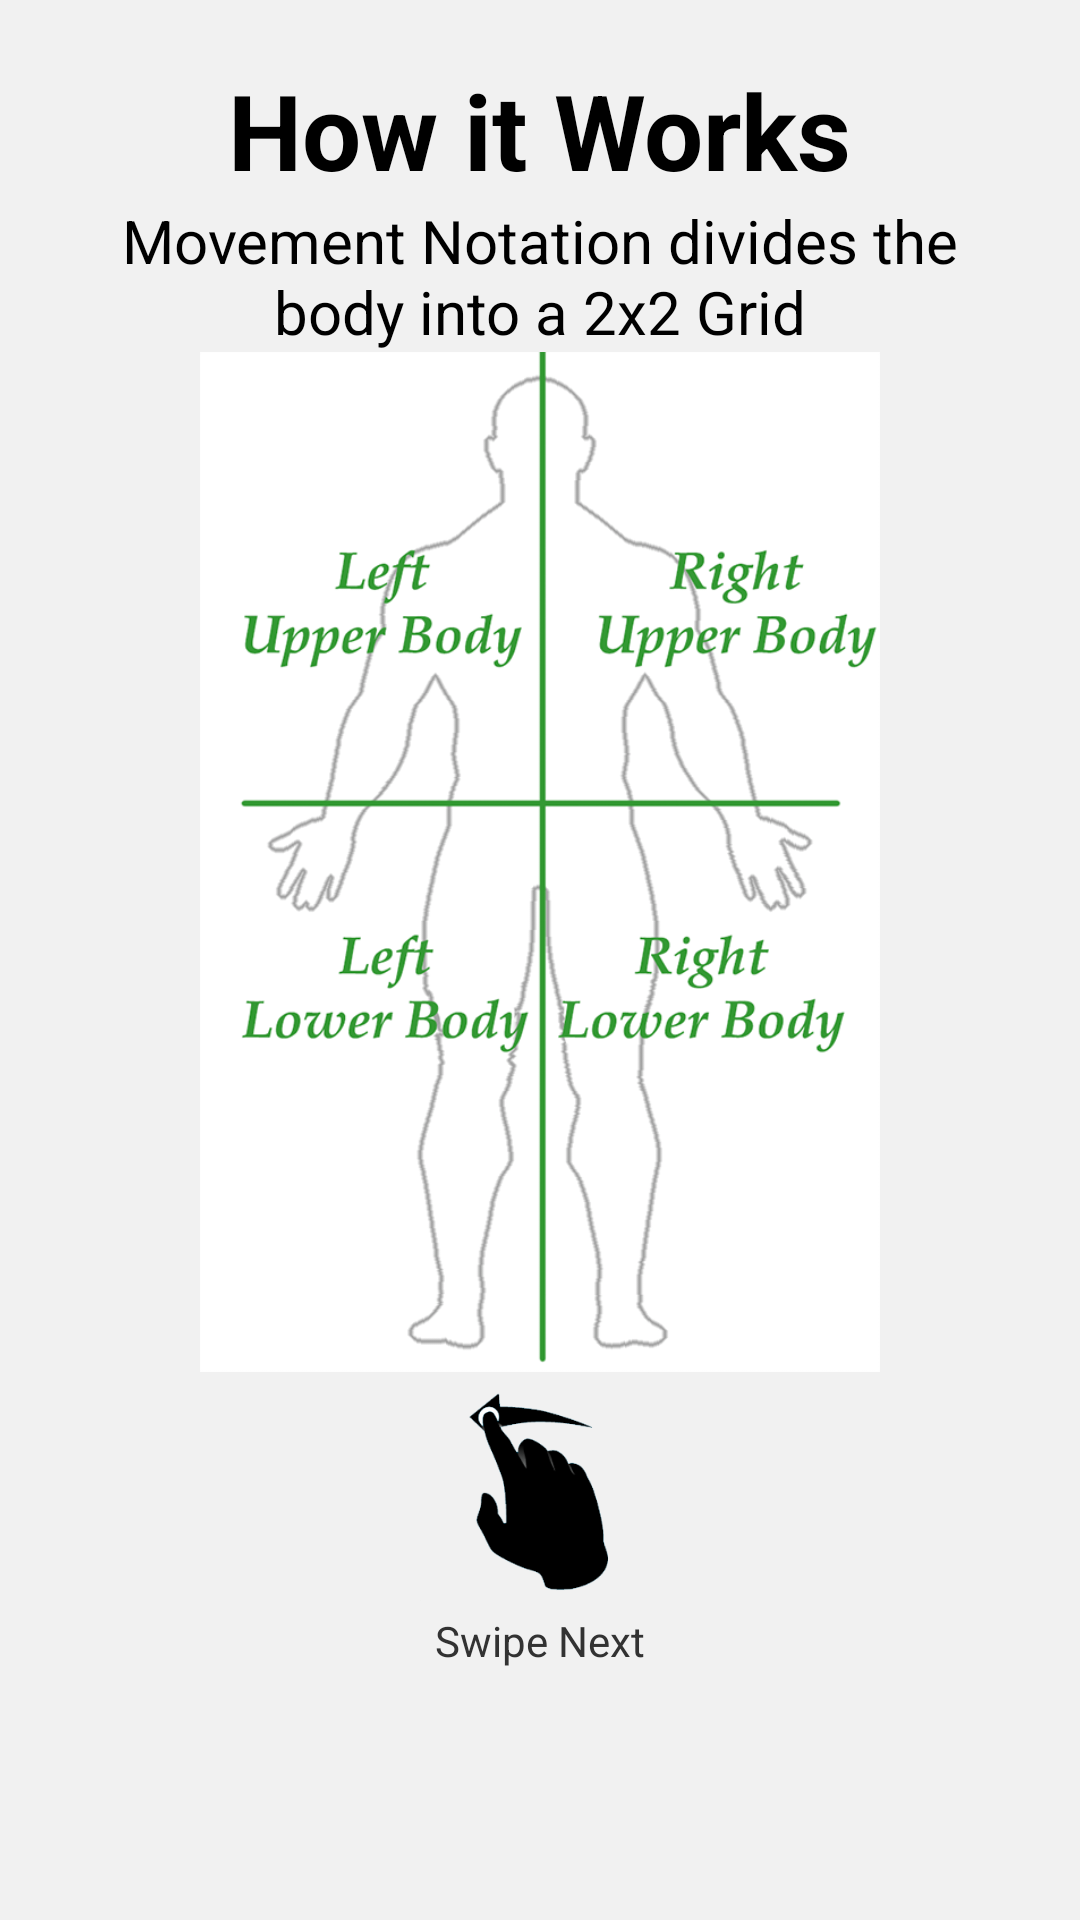

Locate icon controls on the screen. Image size 1080x1920, boxes as (x1, y1, x2, y2).
swipe left: (469, 1394, 608, 1590)
